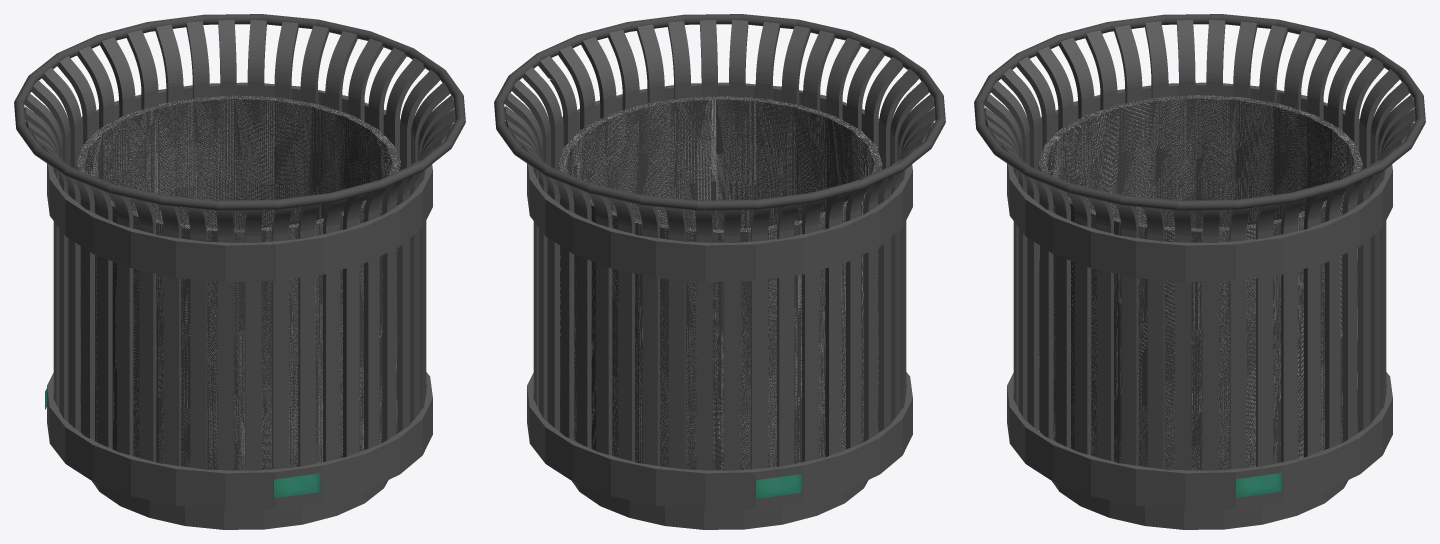
3 renders of one model, left to right at view 1: azimuth 30°, elevation 25°; view 2: azimuth 150°, elevation 25°; view 3: azimuth 270°, elevation 25°, orthographic.
Parts seen in each view (by area): view 1: mesh1_mesh1-geometry, mesh24_mesh24-geometry, mesh29_mesh29-geometry, mesh114_mesh114-geometry, mesh17_mesh17-geometry, mesh78_mesh78-geometry, mesh52_mesh52-geometry, mesh60_mesh60-geometry, mesh80_mesh80-geometry, mesh72_mesh72-geometry, mesh15_mesh15-geometry, mesh50_mesh50-geometry (+36 smaller); view 2: mesh1_mesh1-geometry, mesh24_mesh24-geometry, mesh29_mesh29-geometry, mesh114_mesh114-geometry, mesh17_mesh17-geometry, mesh84_mesh84-geometry, mesh76_mesh76-geometry, mesh62_mesh62-geometry, mesh40_mesh40-geometry, mesh70_mesh70-geometry, mesh66_mesh66-geometry, mesh58_mesh58-geometry (+36 smaller); view 3: mesh1_mesh1-geometry, mesh24_mesh24-geometry, mesh29_mesh29-geometry, mesh114_mesh114-geometry, mesh17_mesh17-geometry, mesh108_mesh108-geometry, mesh74_mesh74-geometry, mesh104_mesh104-geometry, mesh96_mesh96-geometry, mesh36_mesh36-geometry, mesh98_mesh98-geometry, mesh64_mesh64-geometry (+36 smaller).
Part boxes in pixels (<box>): mesh1_mesh1-geometry: <box>76,95,400,470</box>; mesh24_mesh24-geometry: <box>47,82,432,282</box>; mesh29_mesh29-geometry: <box>47,372,432,509</box>; mesh114_mesh114-geometry: <box>14,14,465,210</box>; mesh17_mesh17-geometry: <box>92,480,388,529</box>; mesh78_mesh78-geometry: <box>298,204,321,466</box>; mesh52_mesh52-geometry: <box>186,207,207,469</box>; mesh60_mesh60-geometry: <box>272,207,293,469</box>; mesh80_mesh80-geometry: <box>216,210,234,470</box>; mesh72_mesh72-geometry: <box>131,198,156,462</box>; mesh15_mesh15-geometry: <box>323,198,348,461</box>; mesh50_mesh50-geometry: <box>245,210,263,470</box>; mesh1_mesh1-geometry: <box>558,96,882,470</box>; mesh24_mesh24-geometry: <box>527,82,912,282</box>; mesh29_mesh29-geometry: <box>527,372,912,509</box>; mesh114_mesh114-geometry: <box>494,14,945,210</box>; mesh17_mesh17-geometry: <box>572,480,868,529</box>; mesh84_mesh84-geometry: <box>777,204,800,466</box>; mesh76_mesh76-geometry: <box>750,208,771,469</box>; mesh62_mesh62-geometry: <box>636,204,659,465</box>; mesh40_mesh40-geometry: <box>664,207,685,469</box>; mesh70_mesh70-geometry: <box>724,210,741,470</box>; mesh66_mesh66-geometry: <box>694,210,712,470</box>; mesh58_mesh58-geometry: <box>609,198,634,461</box>; mesh1_mesh1-geometry: <box>1038,95,1362,470</box>; mesh24_mesh24-geometry: <box>1007,82,1392,282</box>; mesh29_mesh29-geometry: <box>1007,372,1392,509</box>; mesh114_mesh114-geometry: <box>974,14,1425,210</box>; mesh17_mesh17-geometry: <box>1052,480,1348,529</box>; mesh108_mesh108-geometry: <box>1143,207,1164,469</box>; mesh74_mesh74-geometry: <box>1229,208,1250,469</box>; mesh104_mesh104-geometry: <box>1115,204,1138,465</box>; mesh96_mesh96-geometry: <box>1256,204,1279,466</box>; mesh36_mesh36-geometry: <box>1202,210,1220,470</box>; mesh98_mesh98-geometry: <box>1173,210,1191,470</box>; mesh64_mesh64-geometry: <box>1089,198,1113,461</box>.
Bounding box in the file's own units: 0.6017 × 0.5253 × 0.6017.
